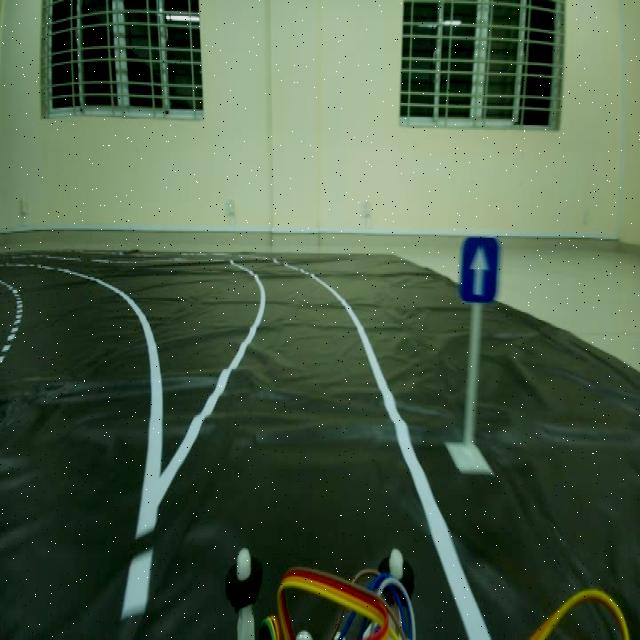onewayroad: (453, 230, 503, 307)
